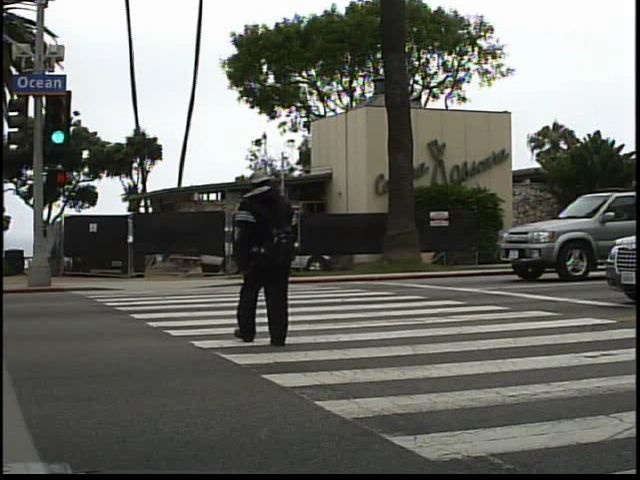person: (219, 163, 316, 355)
